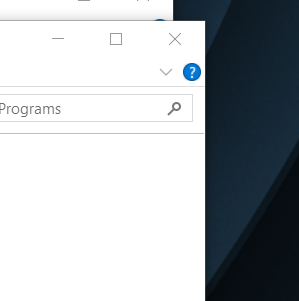close: (157, 26, 193, 54)
